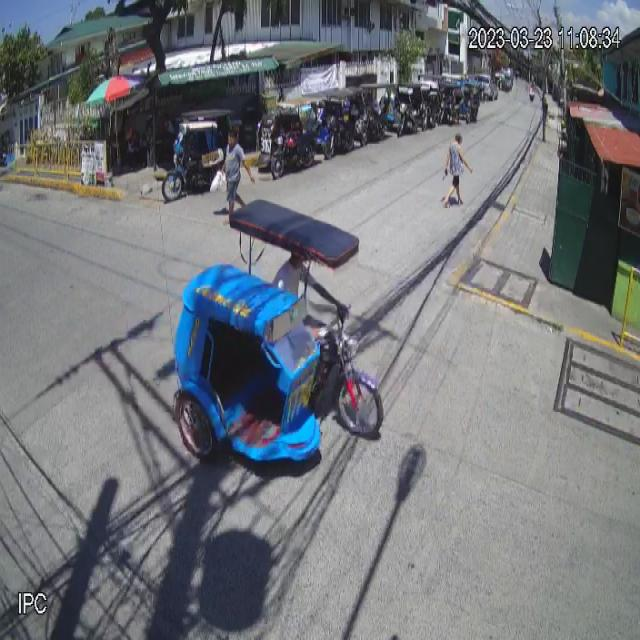Tricycle: (168, 196, 384, 470)
